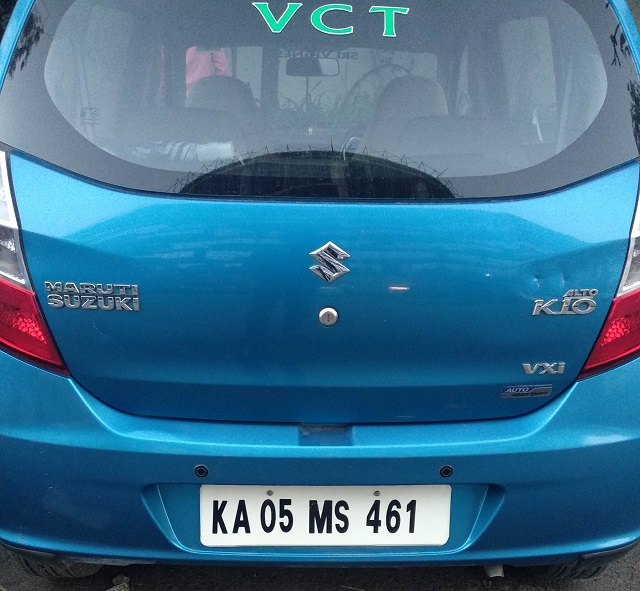licenseplate: (199, 483, 454, 551)
